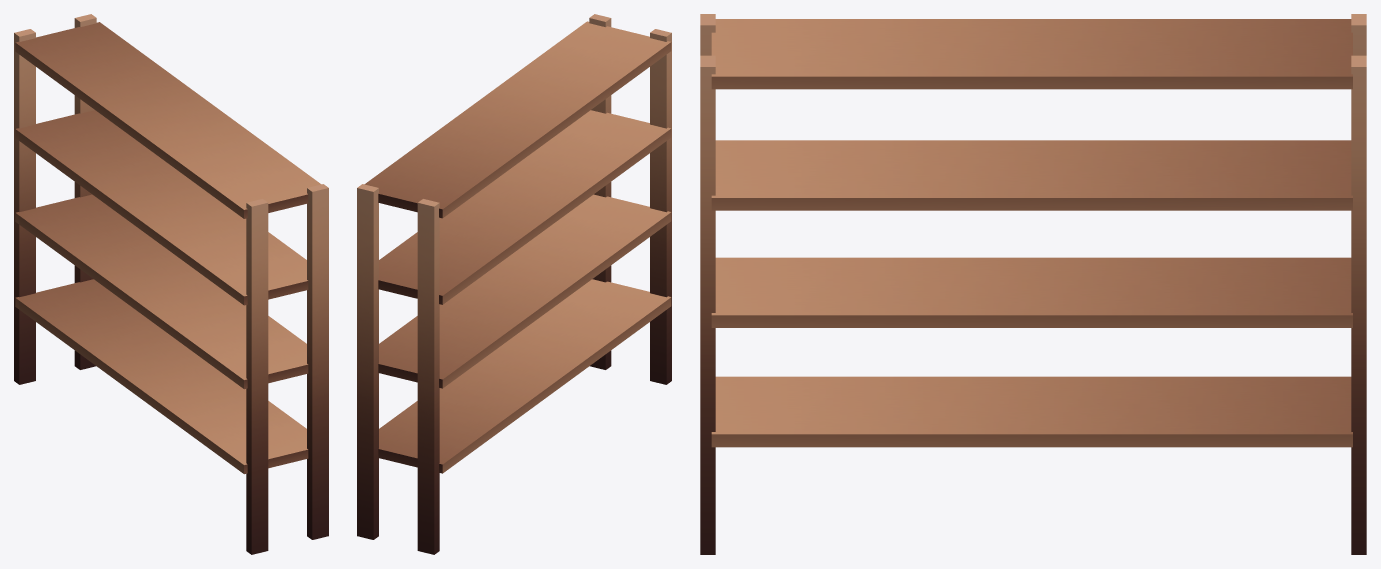
Rendered from SM_thinnedBookshelf.fbx.
3 renders of one model, left to right at view 1: azimuth 30°, elevation 25°; view 2: azimuth 150°, elevation 25°; view 3: azimuth 270°, elevation 25°, orthographic. The views are drawn at different scales.
Visible parts, largest first — view 1: bookshelf; view 2: bookshelf; view 3: bookshelf.
Boxes of the visible parts, left/top/right/bottom form: bookshelf: left=14, top=14, right=328, bottom=554; bookshelf: left=357, top=14, right=671, bottom=554; bookshelf: left=700, top=14, right=1366, bottom=554.
Size of the model in its own units: 485 by 1916 by 2369.
